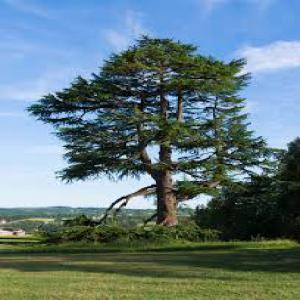Tree: (25, 32, 247, 233)
